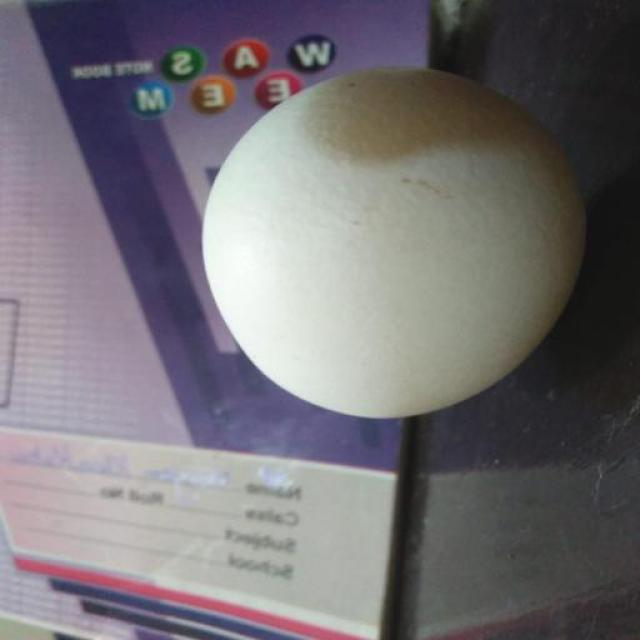telur: (202, 70, 584, 419)
